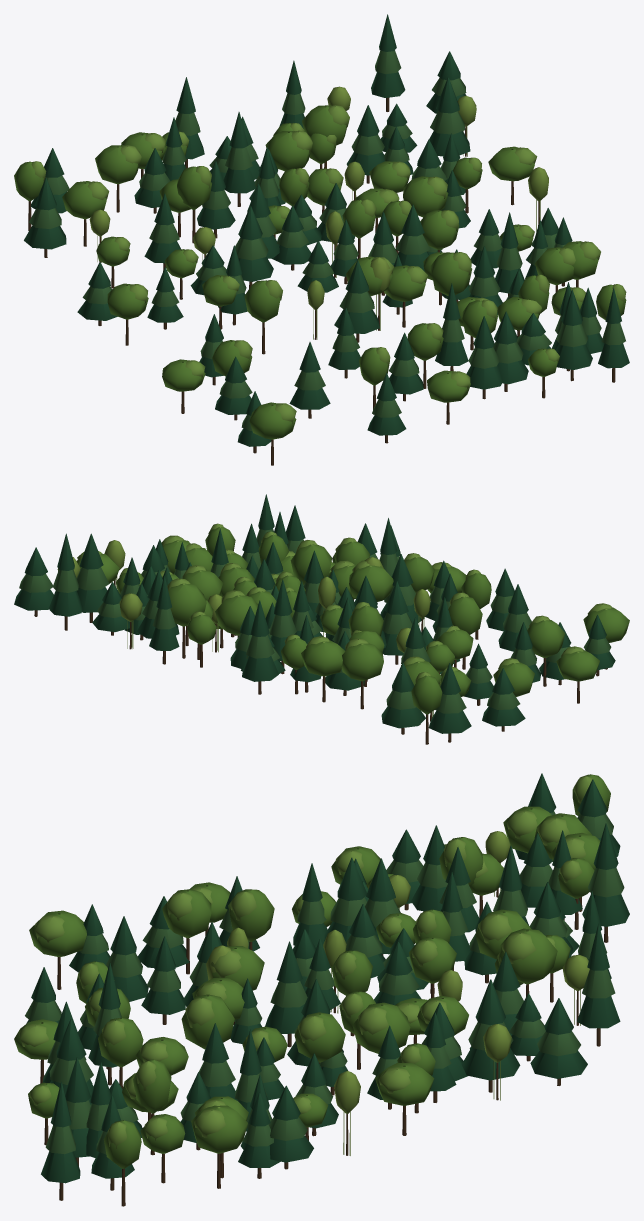
Rendered from forest_4_0.dae.
The picture shows the model from 3 angles, top to bottom: view 1: azimuth 30°, elevation 25°; view 2: azimuth 150°, elevation 25°; view 3: azimuth 270°, elevation 25°; orthographic projection. The views are drawn at different scales.
Parts seen in each view (by area): view 1: forest_4_0; view 2: forest_4_0; view 3: forest_4_0.
Boxes of the visible parts, <box> form: forest_4_0: <box>14,14,629,465</box>; forest_4_0: <box>14,494,629,744</box>; forest_4_0: <box>14,773,629,1206</box>.
Size of the model in its own units: 135 by 127 by 61.03.
